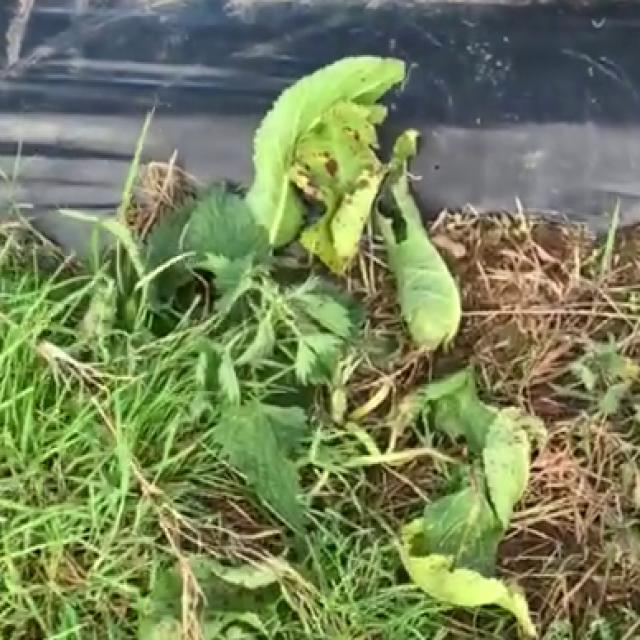organic waste: (178, 7, 446, 293)
